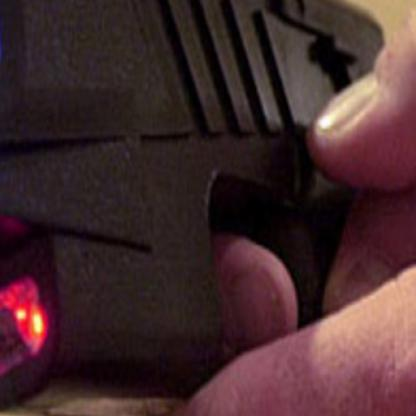gun: (0, 0, 393, 415)
